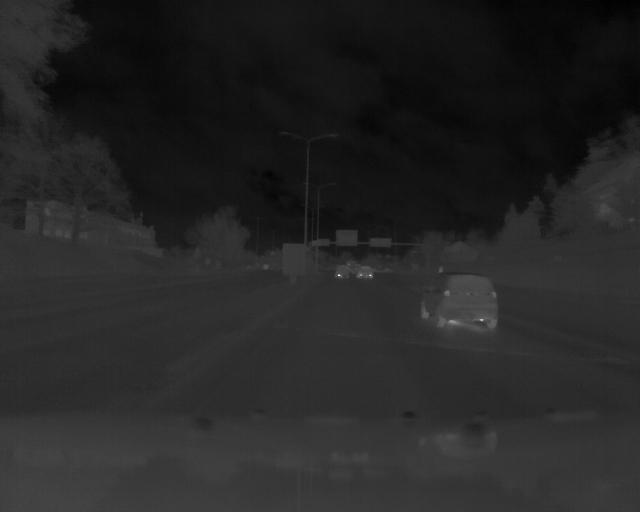car: (419, 273, 500, 333), (356, 264, 375, 281)
